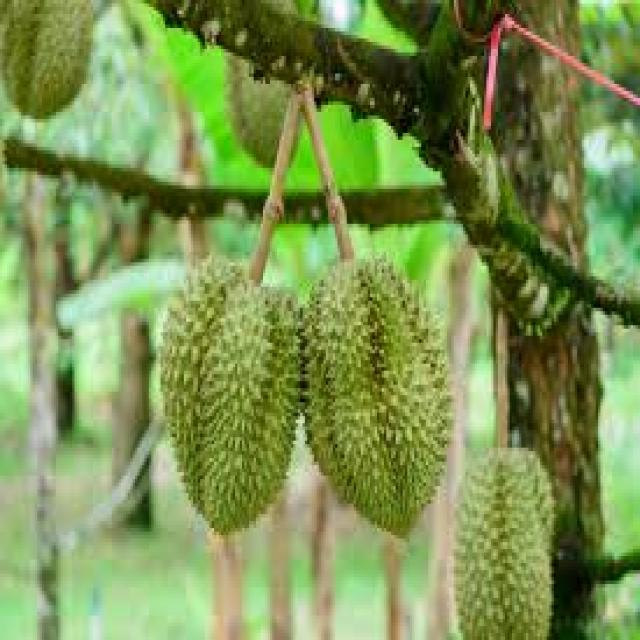immature: (304, 251, 455, 538), (157, 252, 302, 536), (455, 442, 557, 640)
